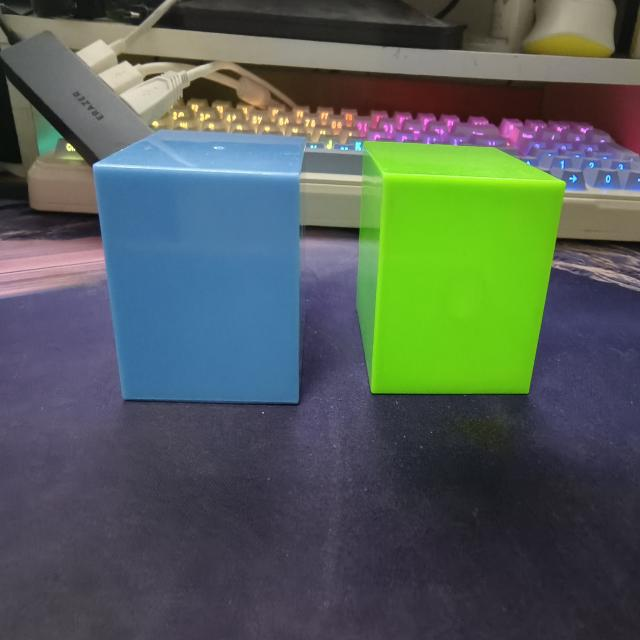blue: (90, 131, 308, 408)
green: (340, 143, 566, 397)
